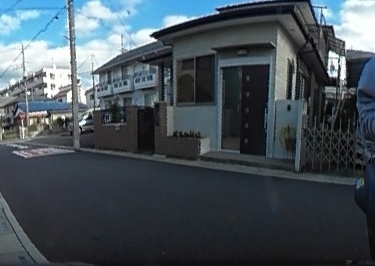person: (365, 1, 375, 257)
